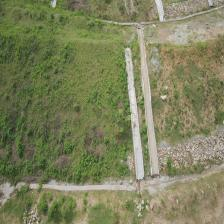rock_toe: (159, 131, 224, 171)
slope_drain: (137, 24, 161, 178), (125, 46, 145, 183)
